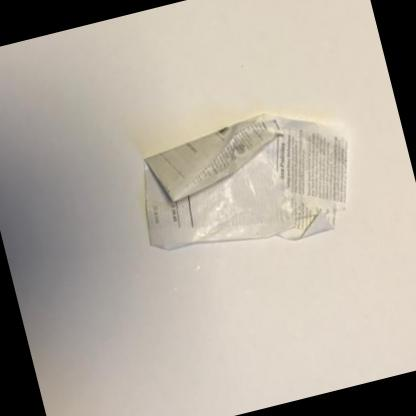Paper: (144, 114, 346, 250)
